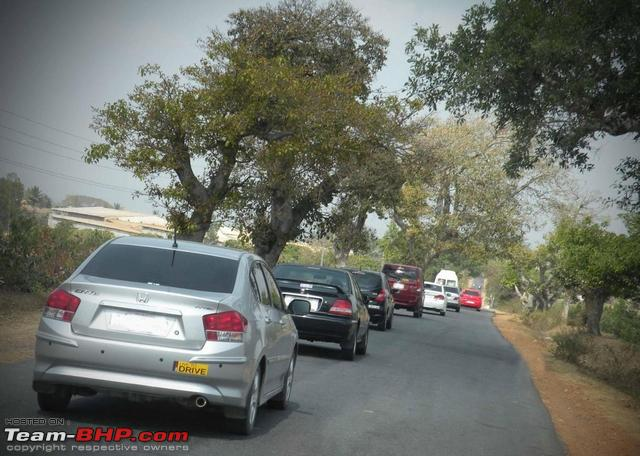Car: (32, 234, 304, 436), (281, 260, 375, 363)
